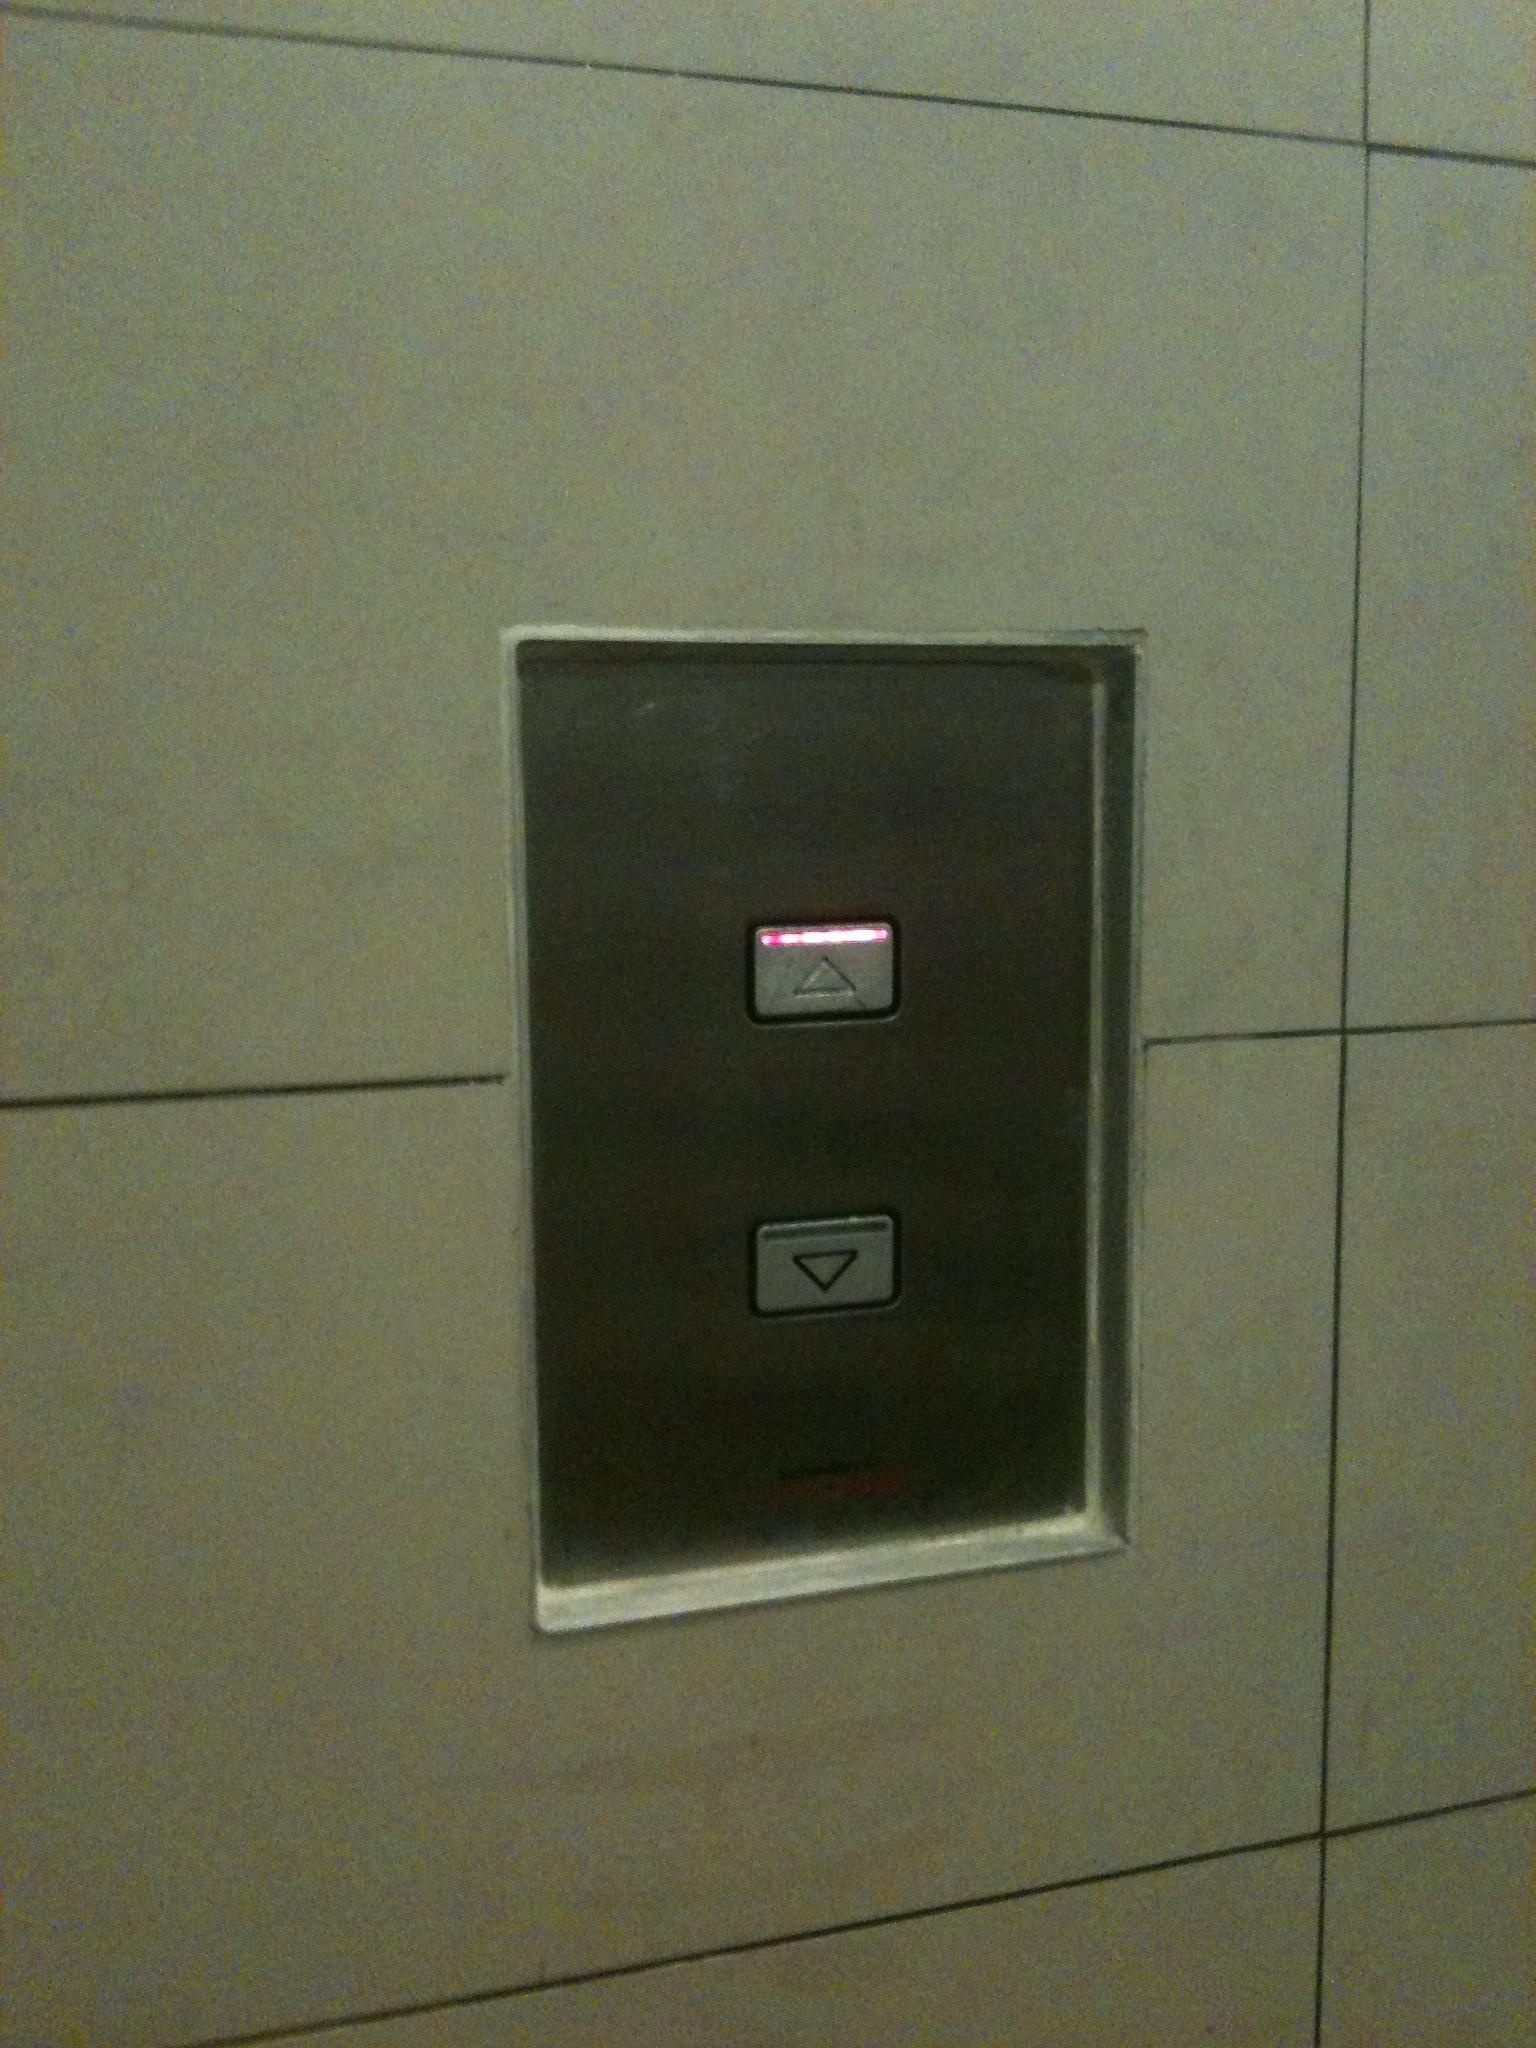down: (749, 1203, 904, 1329)
up: (737, 910, 904, 1032)
